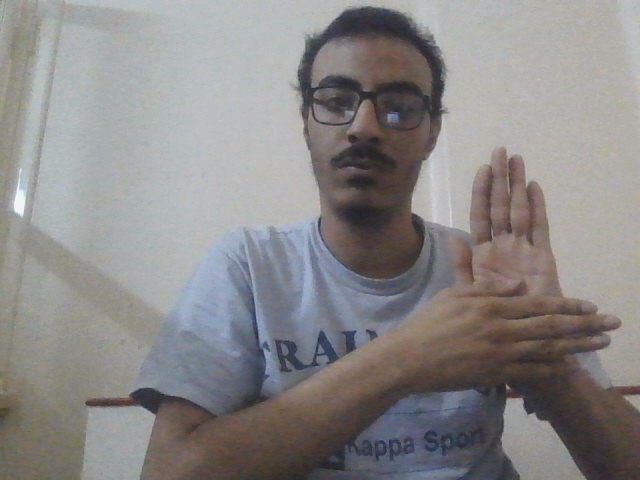Movie: (413, 140, 625, 408)
